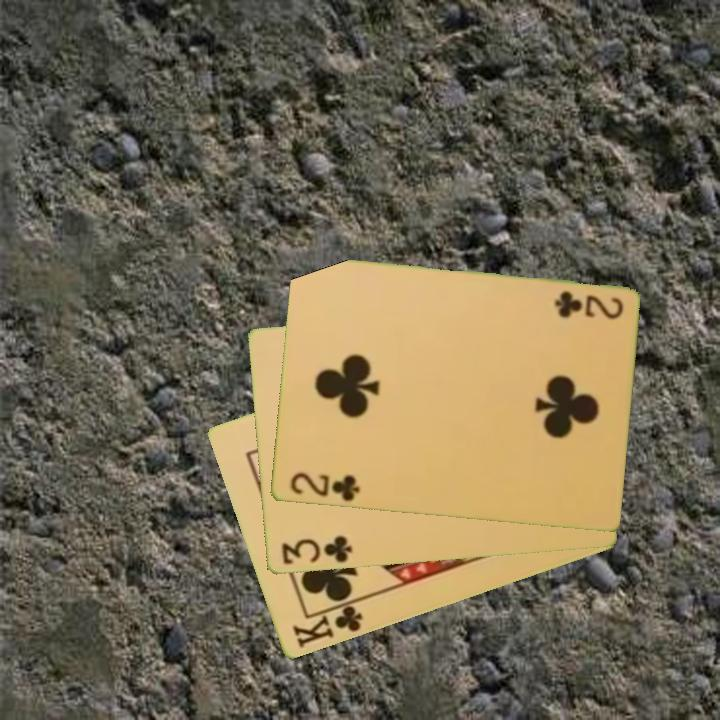2c: (286, 469, 362, 505), (550, 288, 626, 323)
3c: (278, 532, 355, 568)
Kc: (289, 596, 366, 652)
